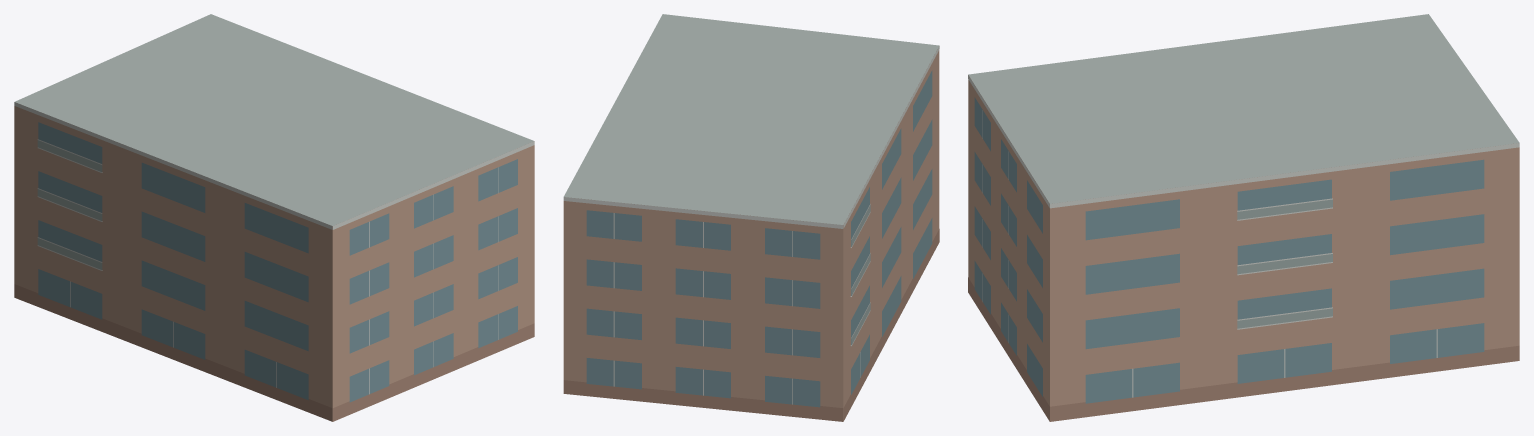
The model's file is residential-6bfa5e66-a465-4f8e-a56f-a5905e27b898.glb.
3 renders of one model, left to right at view 1: azimuth 30°, elevation 25°; view 2: azimuth 150°, elevation 25°; view 3: azimuth 270°, elevation 25°, orthographic. The views are drawn at different scales.
Visible parts, largest first — view 1: residential-6bfa5e66-a465-4f8e-a56f-a5905e27b898.tmp; view 2: residential-6bfa5e66-a465-4f8e-a56f-a5905e27b898.tmp; view 3: residential-6bfa5e66-a465-4f8e-a56f-a5905e27b898.tmp.
Part boxes in pixels (x1=…): residential-6bfa5e66-a465-4f8e-a56f-a5905e27b898.tmp: x1=14, y1=14, x2=534, y2=421; residential-6bfa5e66-a465-4f8e-a56f-a5905e27b898.tmp: x1=563, y1=14, x2=939, y2=421; residential-6bfa5e66-a465-4f8e-a56f-a5905e27b898.tmp: x1=968, y1=14, x2=1519, y2=421.
Bounding box in the file's own units: 22.84 × 12.2 × 28.01.
